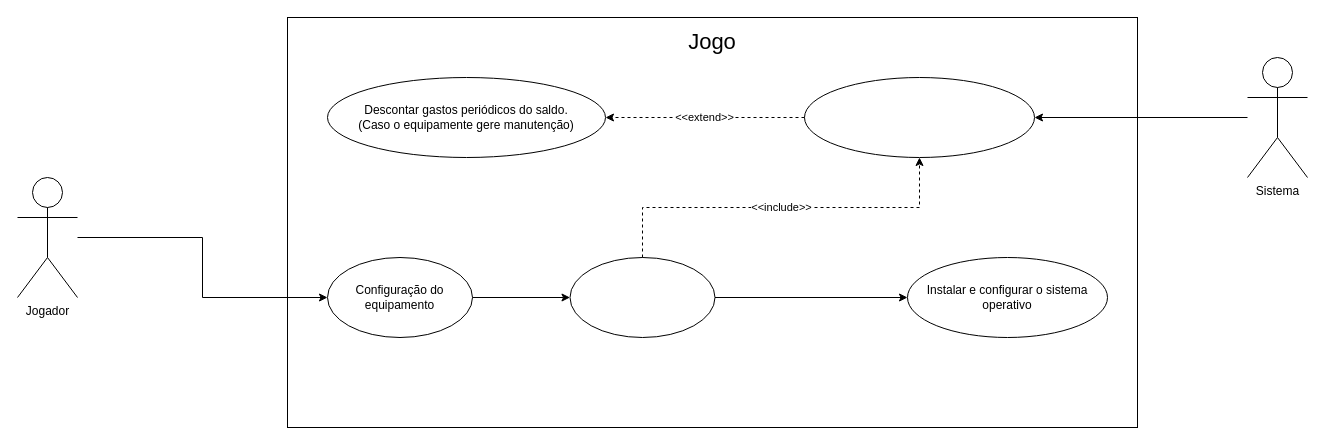
Some shapes in this 1325 by 445 pixel diagram are drawn without their labels. The box of each missing label's shape, as (x1, y1, x2, y2) in pixels:
Atualizar saldo com o valor do equipamento (prejuízo): (804, 76, 1034, 158)
Comprar equipamento: (569, 256, 715, 338)
